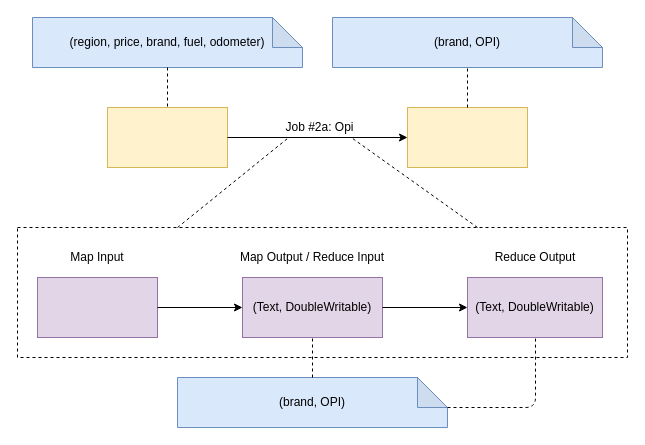
Some shapes in this 645 by 445 pixel diagram are drawn without their labels. The centre of each missing label's shape, as x and y in pixels:
(Object, Text): (x=97, y=307)
OPI for each brand: (x=467, y=137)
Preprocessed dataset: (x=167, y=137)
